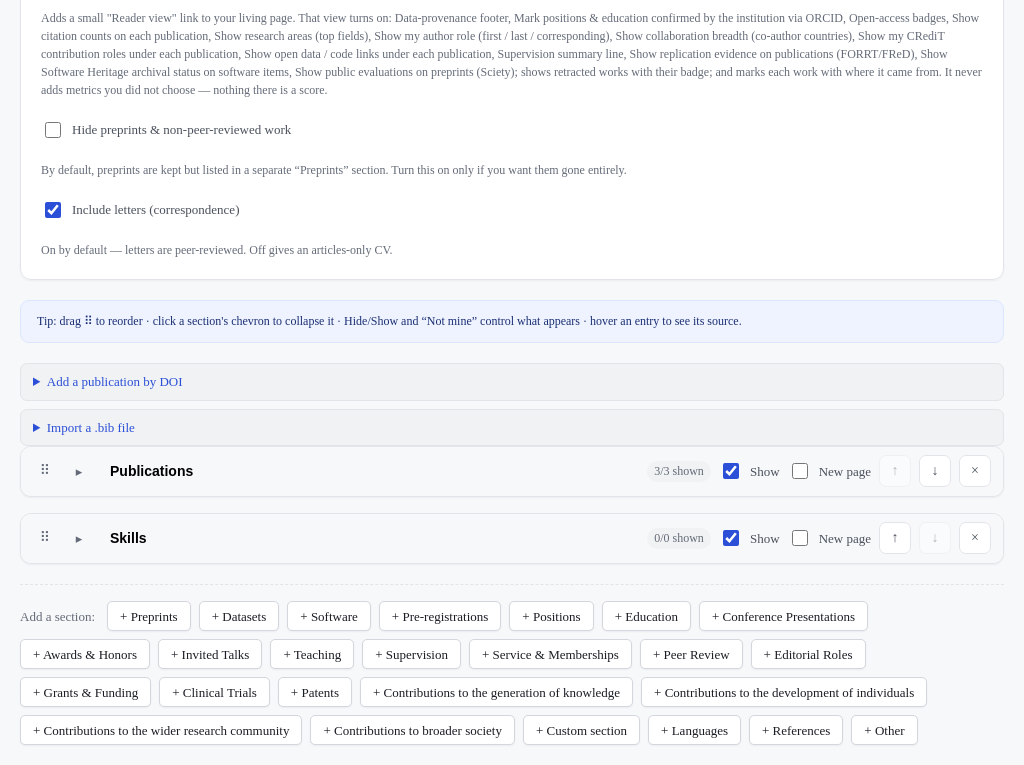
Scenario: CvEditor (component) › renders a free-text add-entry row for the 'skills' section
This screenshot has width=1024, height=765.
(page scrolled)
Step 1. Click the button with class "section-toggle" below "Import a .bib file" → (79, 471), box [65, 457, 93, 485]
(page scrolled)
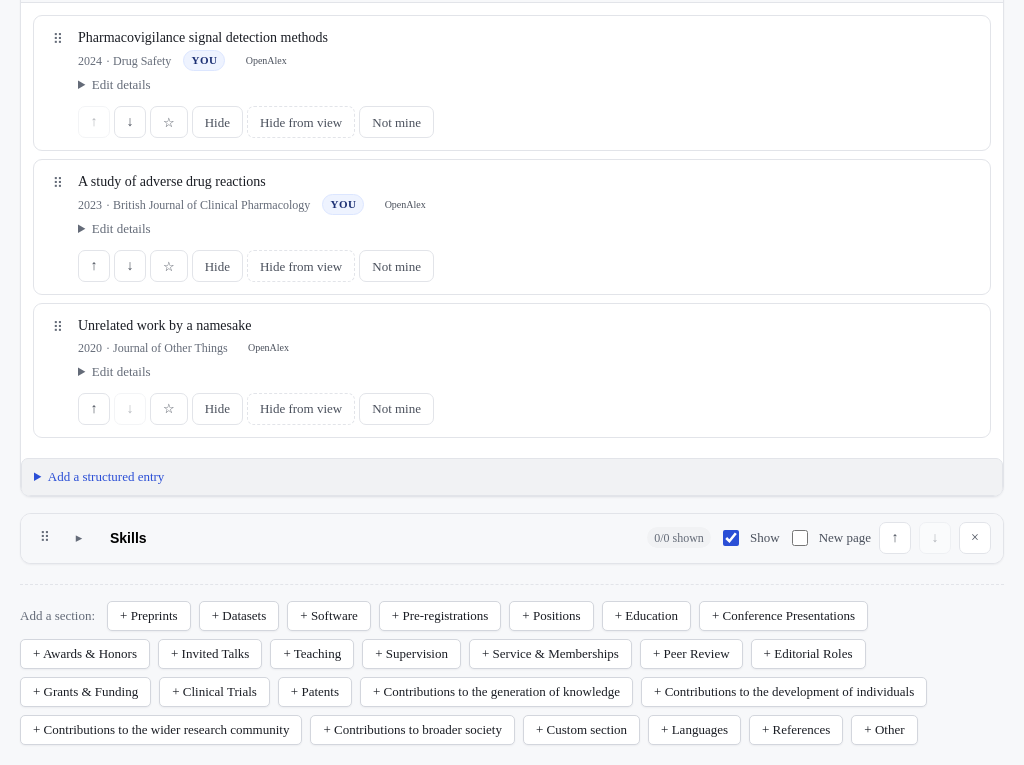
Step 2. Click the button with class "section-toggle" → (79, 538), box [65, 524, 93, 552]
(page scrolled)
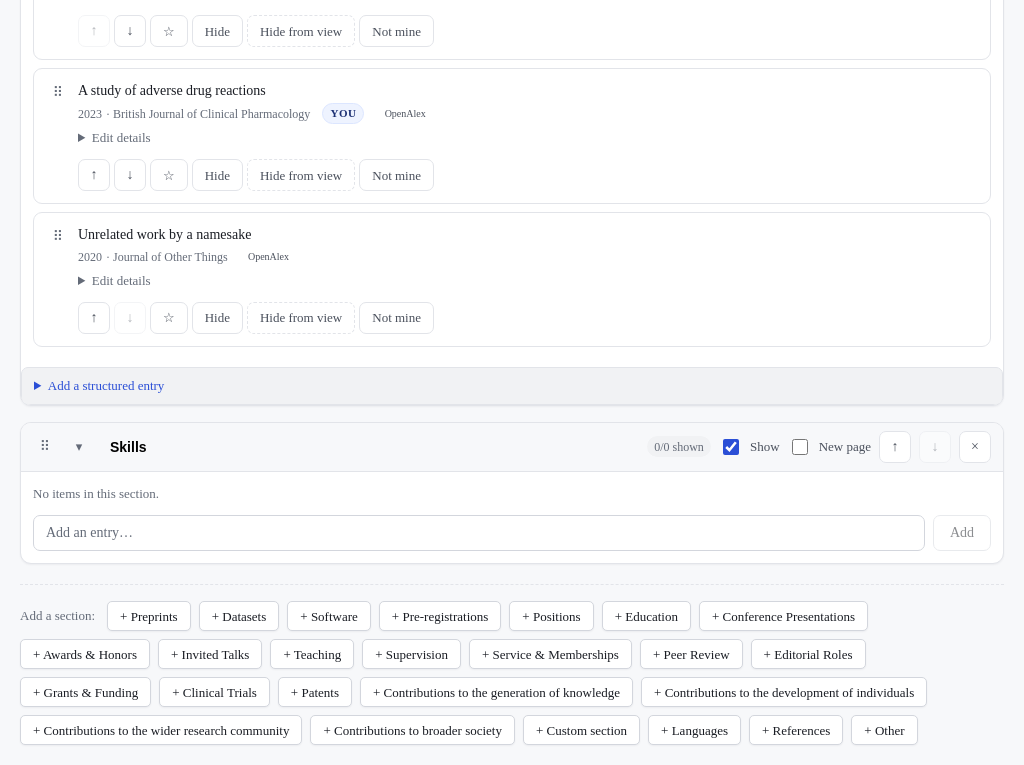
Check: the field with class "section-title" is shown, box [101, 431, 639, 463]
Check: the element with class "add-entry-row" is shown, box [21, 515, 1003, 563]
